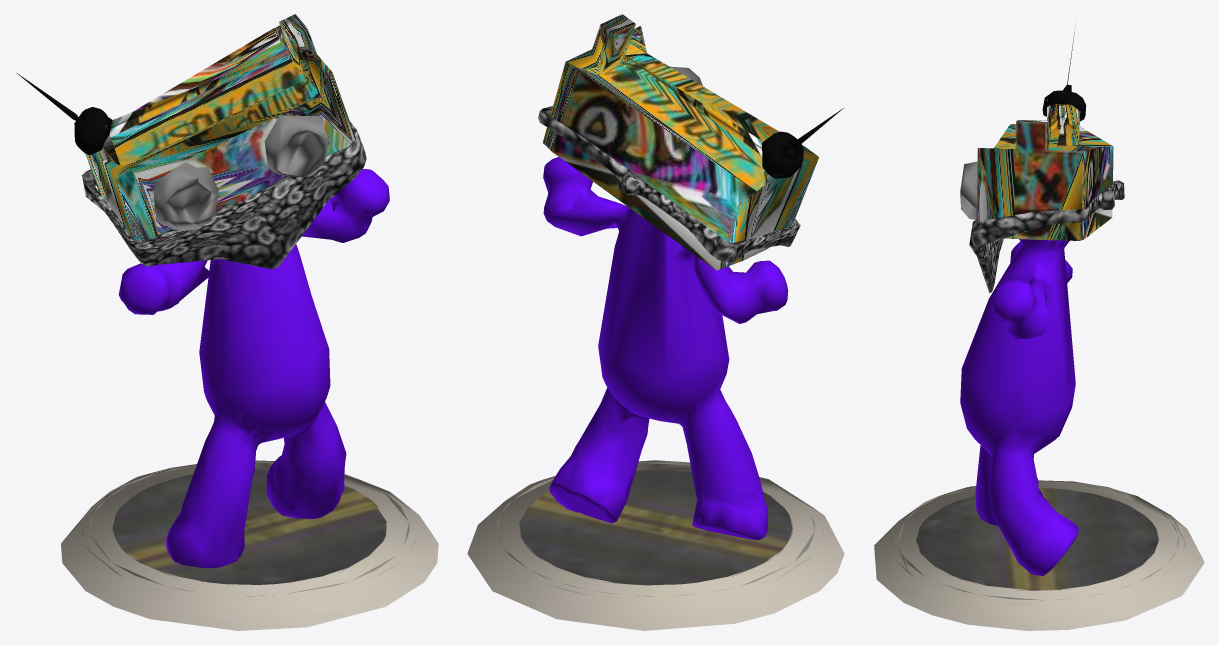
3 views of the same model, side by side, from view 1: azimuth 30°, elevation 25°; view 2: azimuth 150°, elevation 25°; view 3: azimuth 270°, elevation 25° (orthographic). The views are drawn at different scales.
Size of the model in its own units: 1.66 by 2.19 by 1.43.
7 materials, 4 textured.
